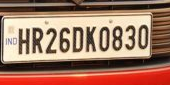0: (98, 26, 110, 53), (138, 24, 149, 50)
2: (45, 27, 58, 54)
3: (125, 24, 136, 50)
6: (59, 26, 71, 54)
8: (112, 25, 123, 52)
D: (72, 25, 84, 53)
H: (18, 26, 31, 55)
K: (85, 25, 97, 53)
R: (31, 26, 44, 54)
